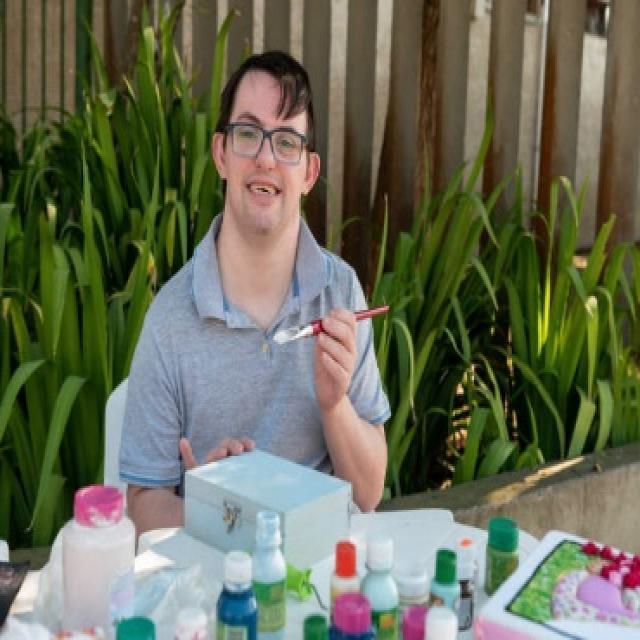child: (114, 35, 393, 535)
